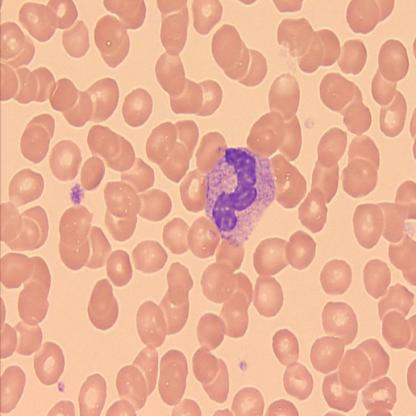Segmented neutrophil: (202, 143, 277, 248)
